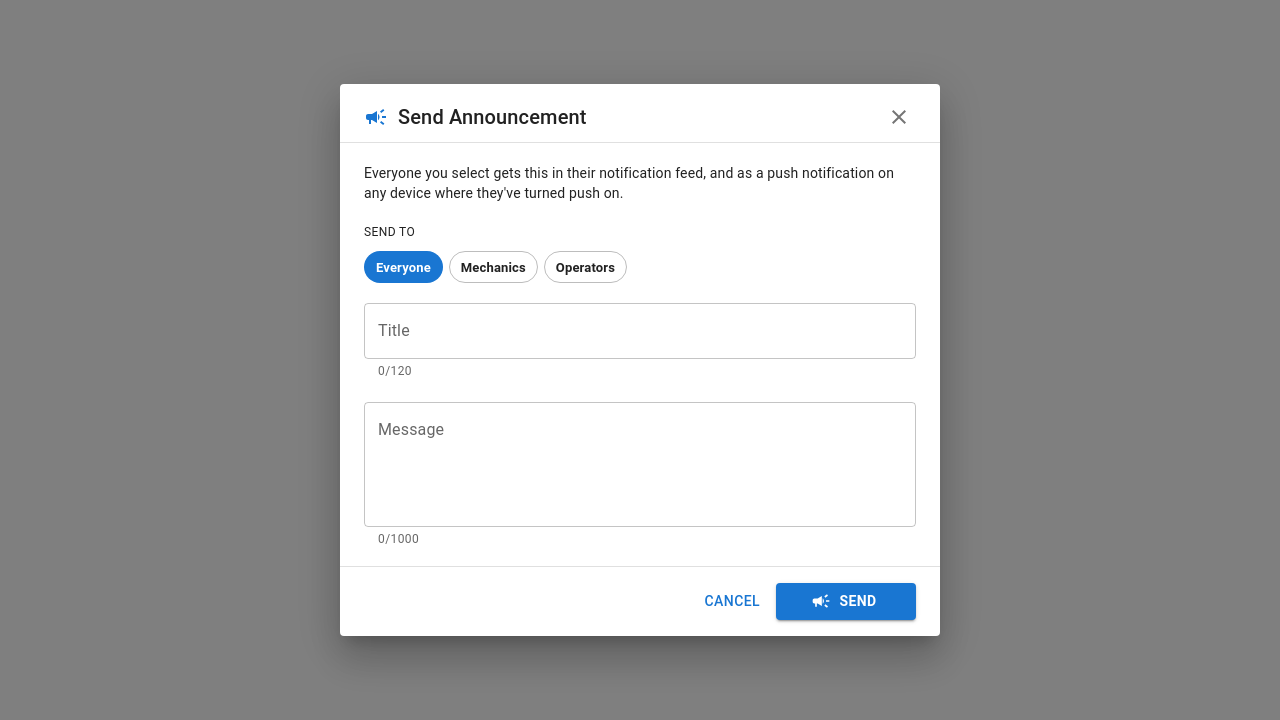
SendAnnouncementDialog › validates before sending anything
Click the button "Send".
click(846, 601)  # box [776,583,916,620]
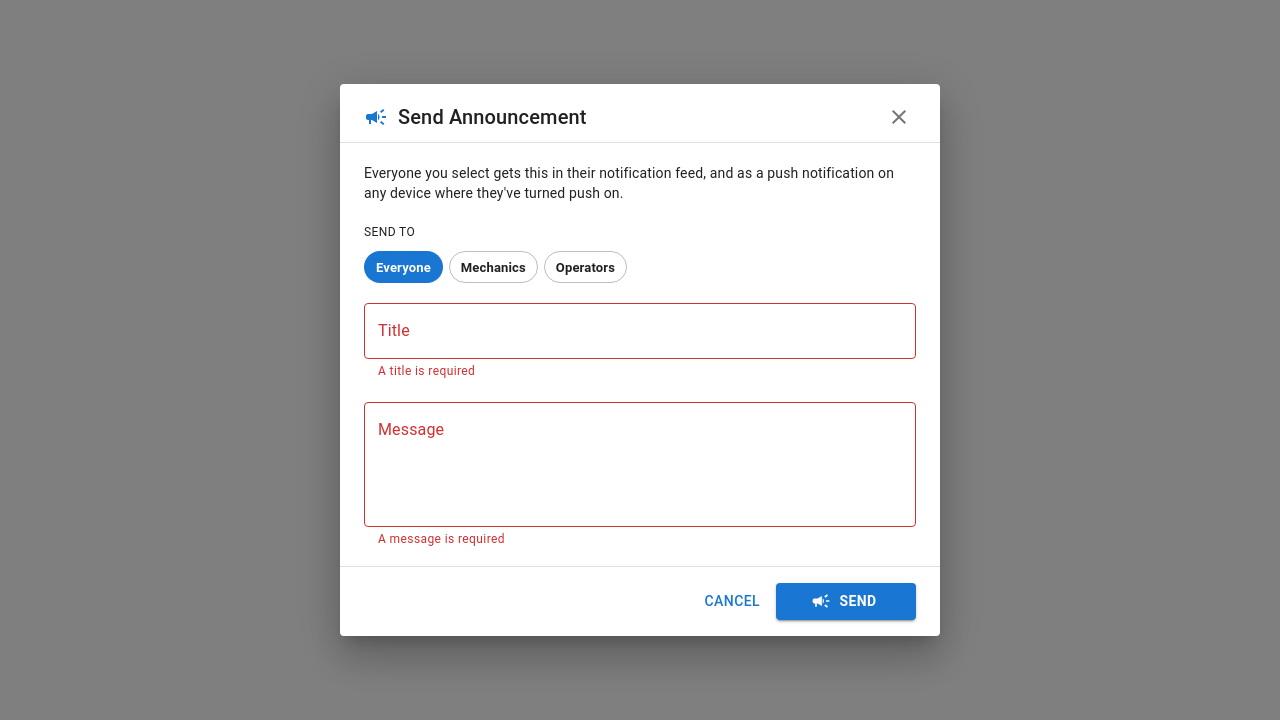
Result: the text "A title is required" is shown at [378,364,475,378]
Result: the text "A message is required" is shown at [378,532,505,546]
